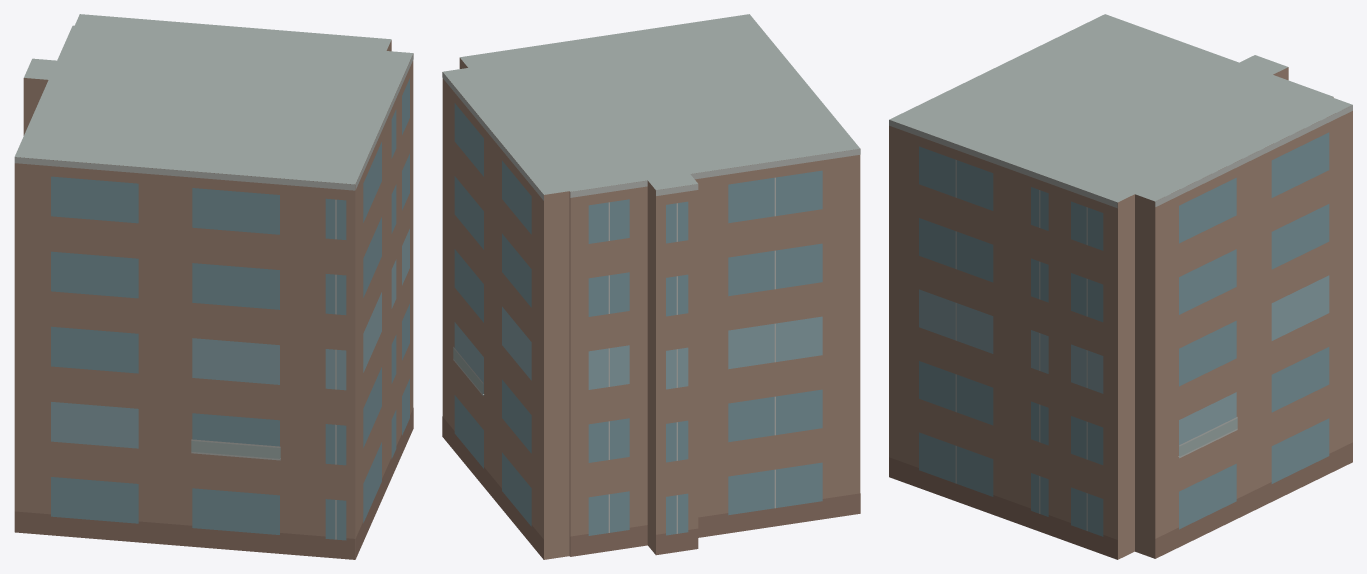
Rendered from survey-upis-32615966.glb.
3 renders of one model, left to right at view 1: azimuth 30°, elevation 25°; view 2: azimuth 150°, elevation 25°; view 3: azimuth 270°, elevation 25°, orthographic. The views are drawn at different scales.
Visible parts, largest first — view 1: survey-upis-32615966.tmp; view 2: survey-upis-32615966.tmp; view 3: survey-upis-32615966.tmp.
Part boxes in pixels (left/top/right/bottom): survey-upis-32615966.tmp: left=14, top=14, right=413, bottom=559; survey-upis-32615966.tmp: left=442, top=14, right=860, bottom=559; survey-upis-32615966.tmp: left=889, top=14, right=1352, bottom=559.
Size of the model in its own units: 16.69 by 14.75 by 17.35.
